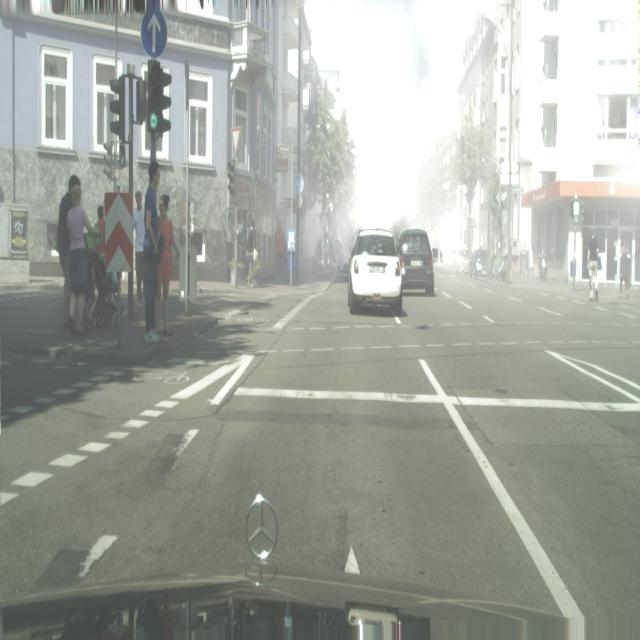person: (54, 179, 100, 335), (142, 162, 162, 343), (156, 194, 175, 337), (132, 191, 146, 305), (587, 228, 600, 301), (245, 218, 257, 286), (274, 221, 285, 283), (619, 245, 631, 298)
truck: (347, 228, 403, 316), (398, 229, 435, 295), (469, 248, 490, 279), (454, 248, 471, 274)
